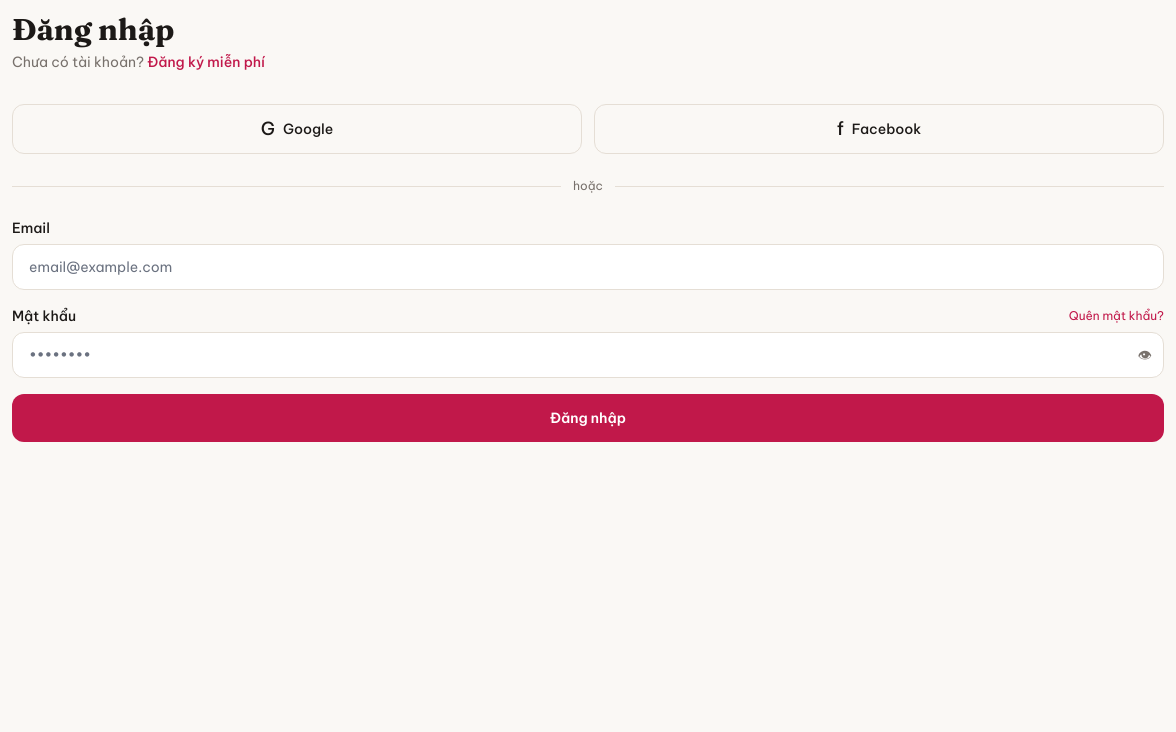
LoginPage.vue › displays backend rate limit error (429)
Type "test@example.com" into the field labelled "Email" at [588, 267], box left=12, top=244, right=1164, bottom=290
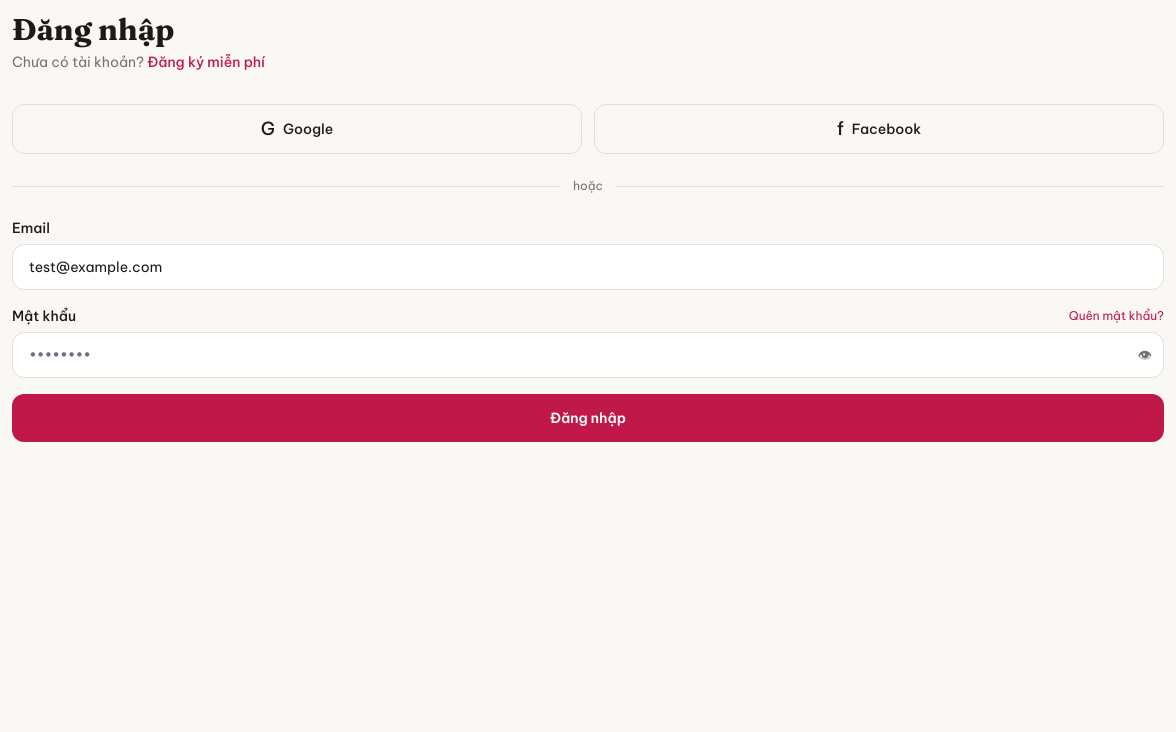
Type "password123" into the password field labelled "Mật khẩu" at [588, 355], box left=12, top=332, right=1164, bottom=378
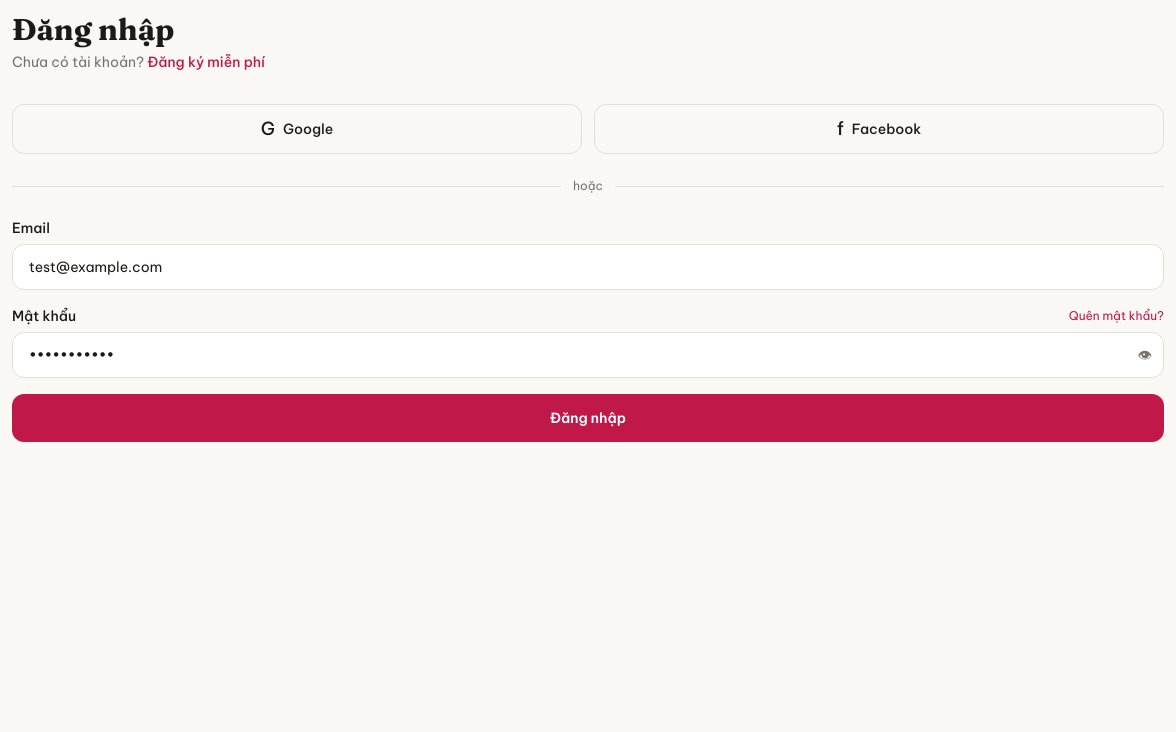
Submit the form, box left=12, top=218, right=1164, bottom=442
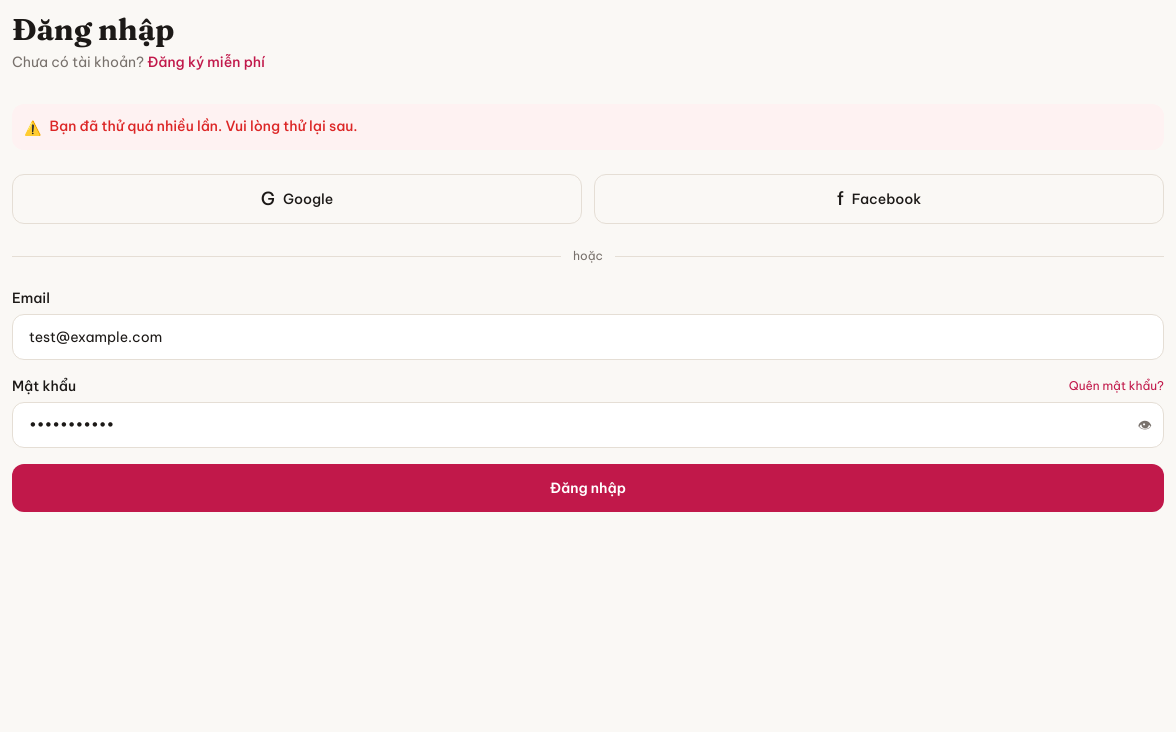
Check: the text "Bạn đã thử quá nhiều lần" is shown, box left=50, top=117, right=358, bottom=135
